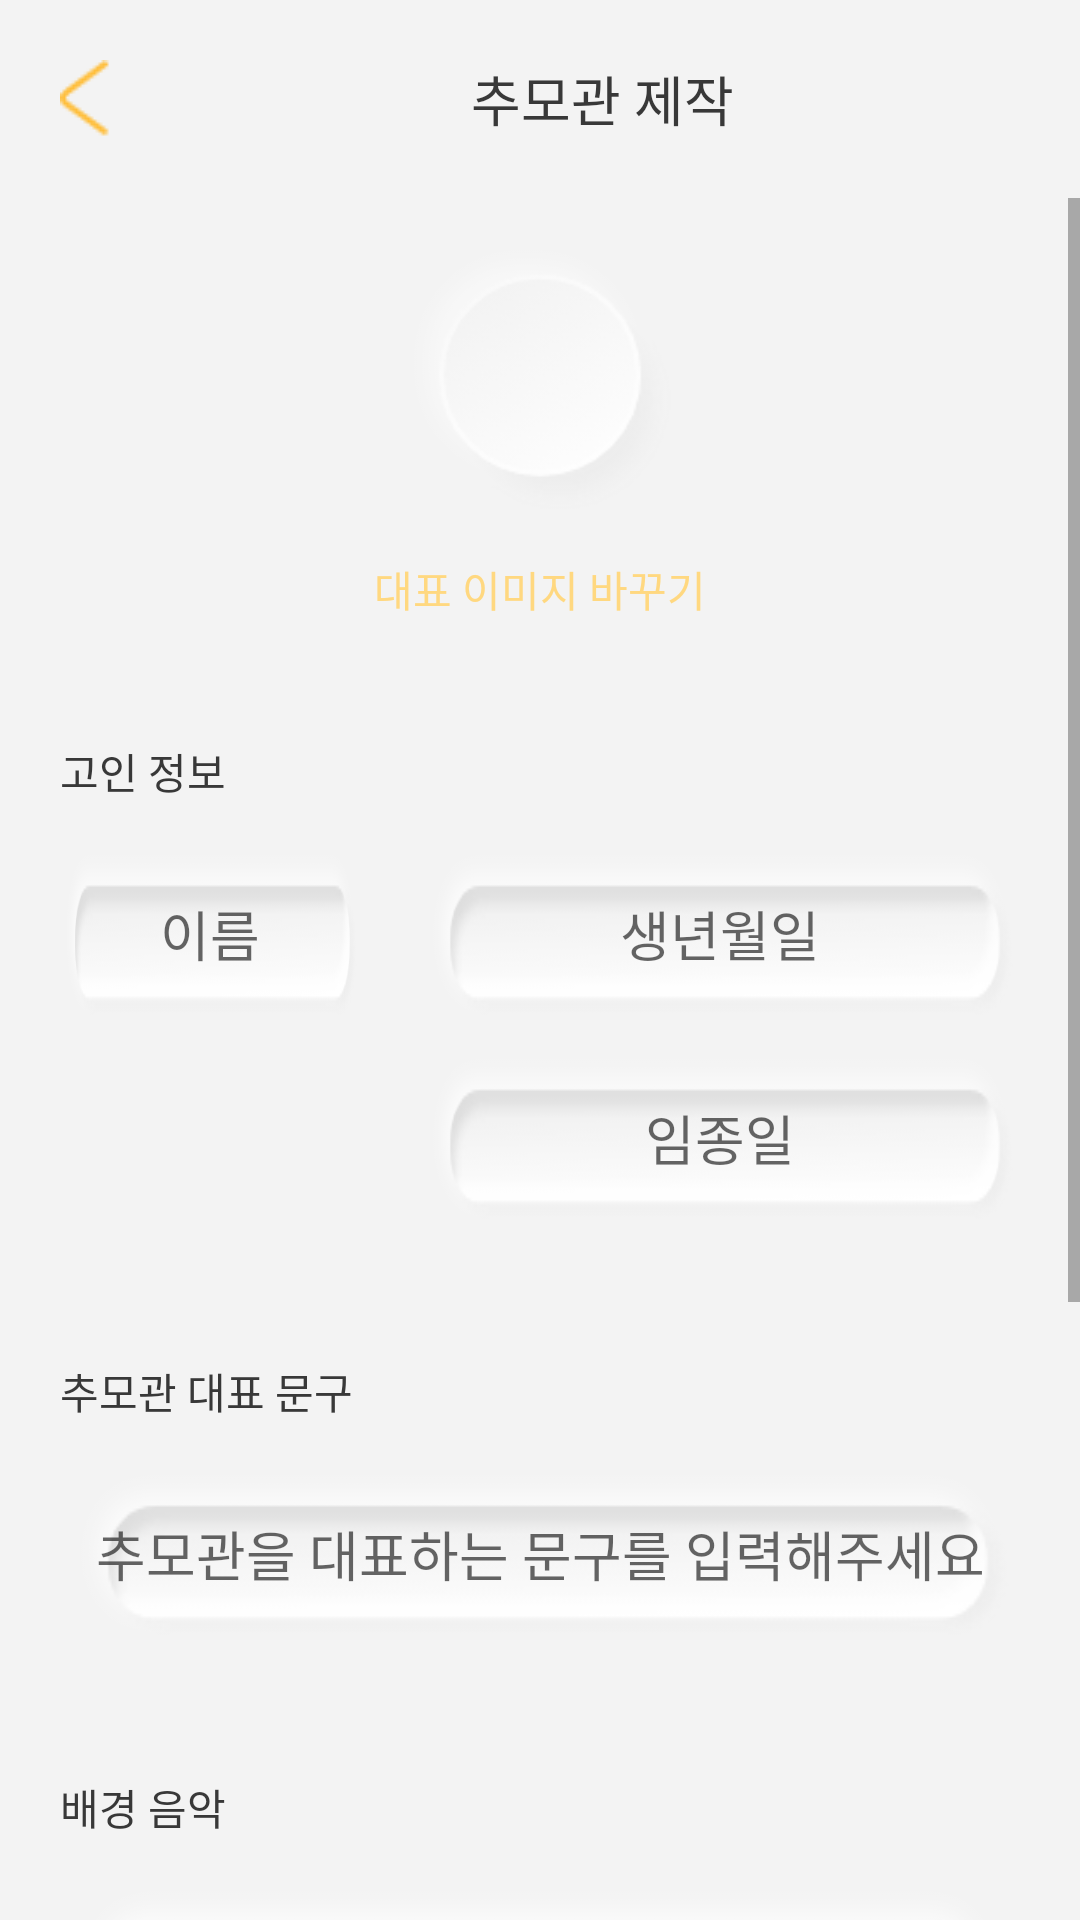

Where to tap for icons on this 1080*1920 app screen, as (x,y):
leftallow: (84,98)
